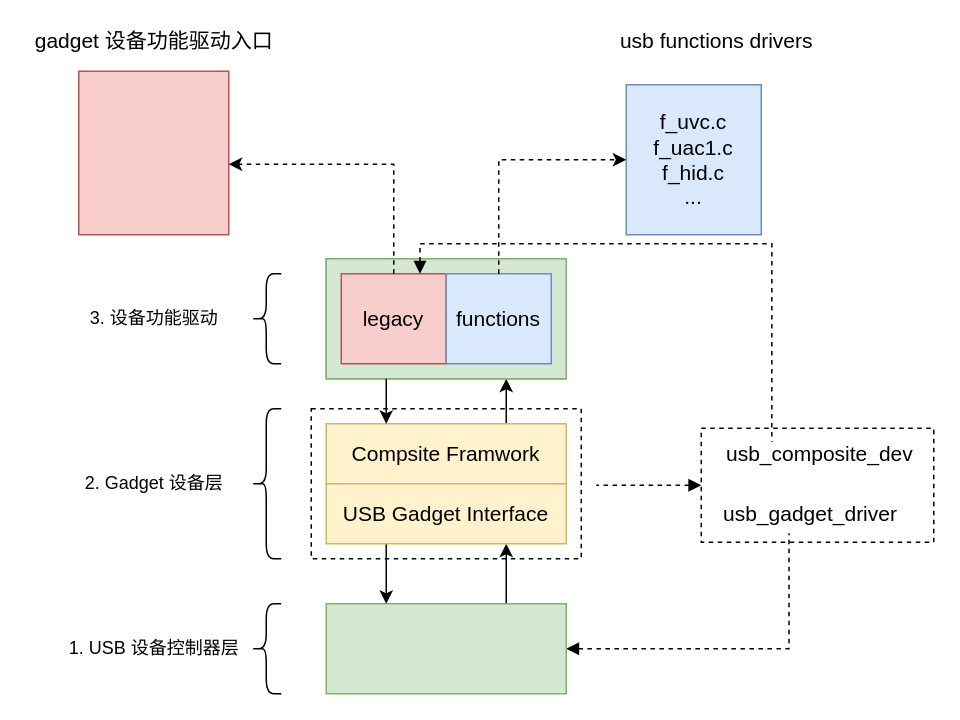
Some shapes in this 960 by 720 pixel diagram are drawn without their labels. The centre of each missing label's shape, as x and y in pixels:
"Device Control driver" belongs at (x=445, y=648).
"webcam.c hid.c audio.c mult.c ..." belongs at (x=153, y=152).
